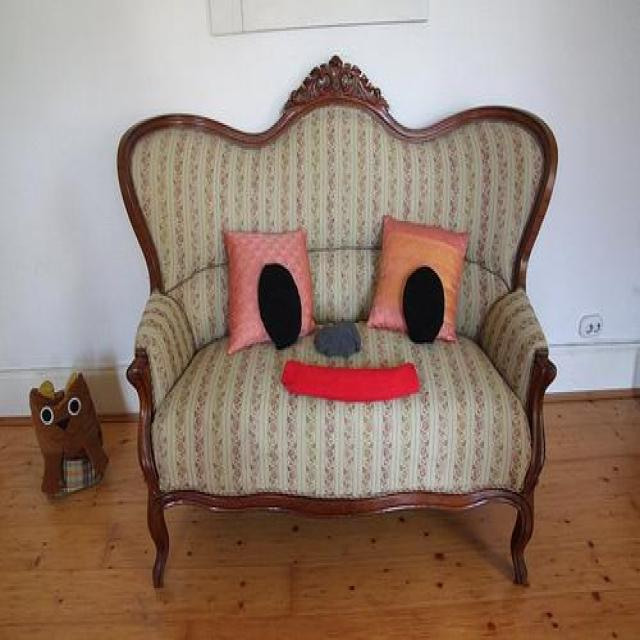sofa: (115, 52, 560, 592)
